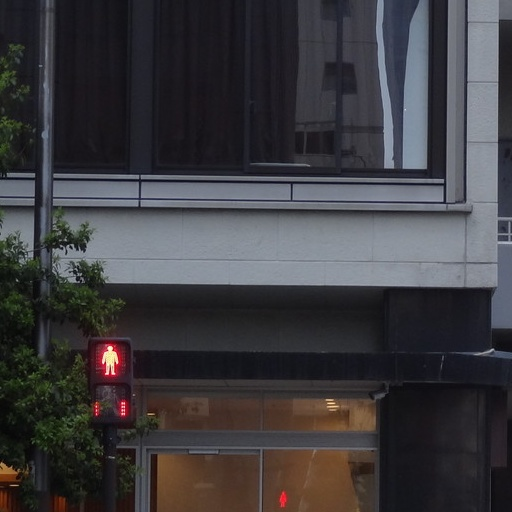Pedestrian_Signal_Red: (90, 335, 132, 422)
